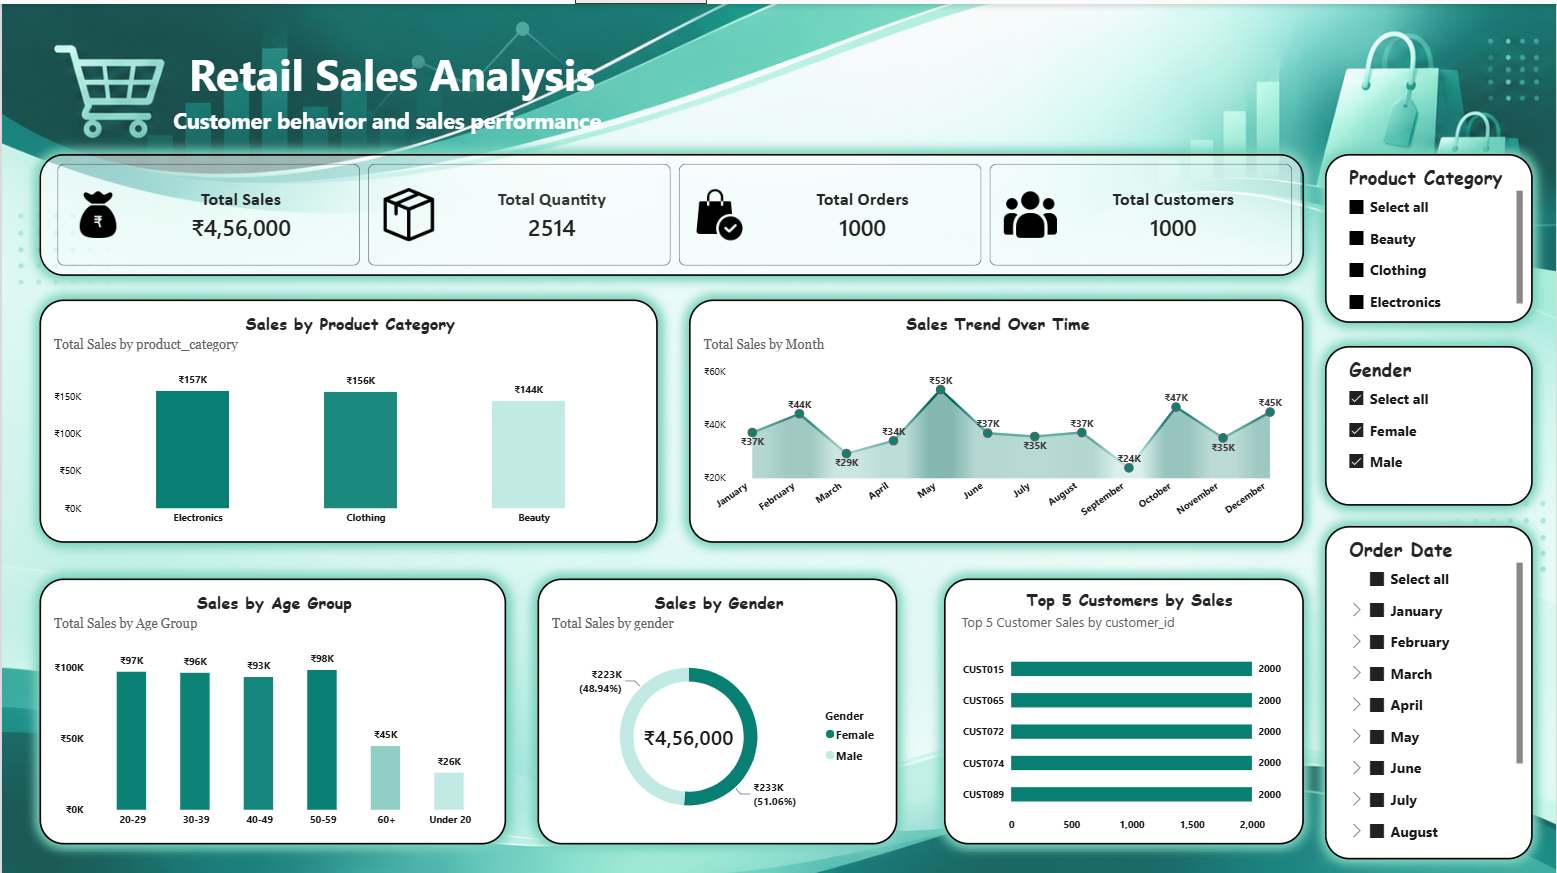

What the dashboard file says about the page in this screenshot:
{"tool":"powerbi","page":{"name":"Page 1","canvas":[1920,1080],"ordinal":0},"visuals":[{"type":"cardVisual","title":"Total Sales","fields":{"Data":["retail_sales_analysis.Total Sales","Sum(retail_sales_analysis.quantity)","retail_sales_analysis.Total Orders","retail_sales_analysis.Total Customers"]},"box":[46.3,185.2,1562.7,150.5],"z":0},{"type":"clusteredColumnChart","title":"Sales by Product Category","fields":{"Category":["retail_sales_analysis retail_sales.product_category"],"Y":["retail_sales_analysis.Total Sales"]},"box":[46.3,365.8,764,301],"z":1000},{"type":"lineChart","title":"Sales Trend Over Time","fields":{"Category":["retail_sales_analysis retail_sales.order_date.Variation.Date Hierarchy.Month"],"Y":["retail_sales_analysis.Total Sales"]},"box":[849.7,365.8,759.4,301],"z":2000},{"type":"donutChart","title":"Sales by Gender","fields":{"Category":["retail_sales_analysis retail_sales.gender"],"Y":["retail_sales_analysis.Total Sales"]},"box":[662.1,710.7,444.5,328.7],"z":3000},{"type":"barChart","title":"Top 5 Customers by Sales","fields":{"Category":["retail_sales_analysis.customer_id"],"Y":["retail_sales_analysis.Top 5 Customer Sales"]},"box":[1164.5,710.7,444.5,328.7],"z":4000},{"type":"slicer","title":"Order Date","fields":{"Values":["retail_sales_analysis.order_date.Variation.Date Hierarchy.Month","retail_sales_analysis.order_date.Variation.Date Hierarchy.Day"]},"box":[1635.3,645.1,257,412.1],"z":5000},{"type":"slicer","fields":{"Values":["retail_sales_analysis retail_sales.product_category"]},"box":[1635.3,186.2,256.7,209],"z":6000},{"type":"slicer","fields":{"Values":["retail_sales_analysis retail_sales.gender"]},"box":[1635.3,422.5,256.7,197.6],"z":7000},{"type":"clusteredColumnChart","title":"Sales by Age Group ","fields":{"Category":["retail_sales_analysis.Age Group"],"Y":["retail_sales_analysis.Total Sales"]},"box":[46.3,710.7,576.5,328.7],"z":8000},{"type":"textbox","box":[1,0,280,170],"z":9000},{"type":"textbox","box":[9.3,30.1,1903,155.1],"z":10000}]}

Visuals, with their boxes in screenshot pixels (x1, y1, x2, y2), scaled from the page's 1920x1080 canvas onto the 1557x873 screenshot:
"Total Sales" cardVisual: detection(38, 150, 1305, 271)
"Sales by Product Category" clusteredColumnChart: detection(38, 296, 657, 539)
"Sales Trend Over Time" lineChart: detection(689, 296, 1305, 539)
"Sales by Gender" donutChart: detection(537, 574, 897, 840)
"Top 5 Customers by Sales" barChart: detection(944, 574, 1305, 840)
"Order Date" slicer: detection(1326, 521, 1535, 855)
slicer - retail_sales_analysis retail_sales.product_category: detection(1326, 151, 1534, 319)
slicer - retail_sales_analysis retail_sales.gender: detection(1326, 342, 1534, 501)
"Sales by Age Group " clusteredColumnChart: detection(38, 574, 505, 840)
textbox: detection(1, 0, 228, 137)
textbox: detection(8, 24, 1551, 150)
